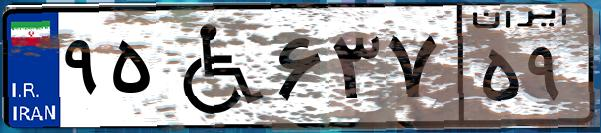3: (330, 28, 385, 110)
5: (475, 38, 525, 113), (110, 28, 158, 98)
6: (270, 28, 330, 110)
7: (385, 28, 445, 110)
9: (57, 26, 110, 100), (525, 38, 570, 115)
ژ (معلولین و جانبازان): (158, 12, 270, 120)
